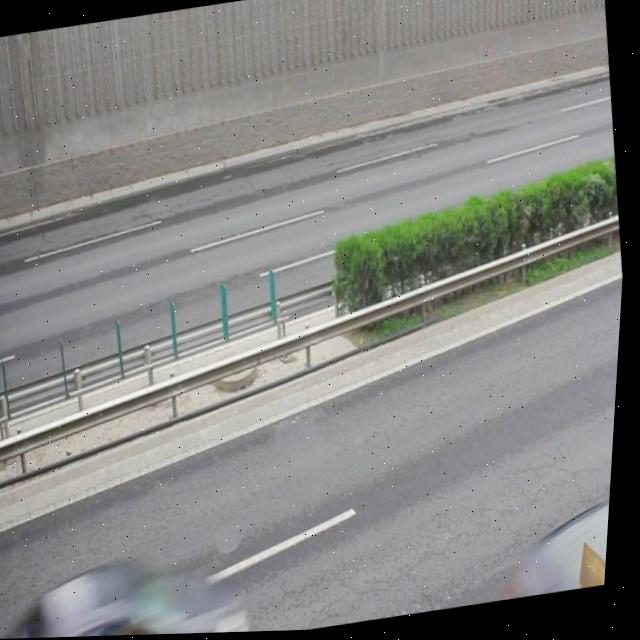car: (23, 543, 252, 639), (496, 506, 616, 604)
